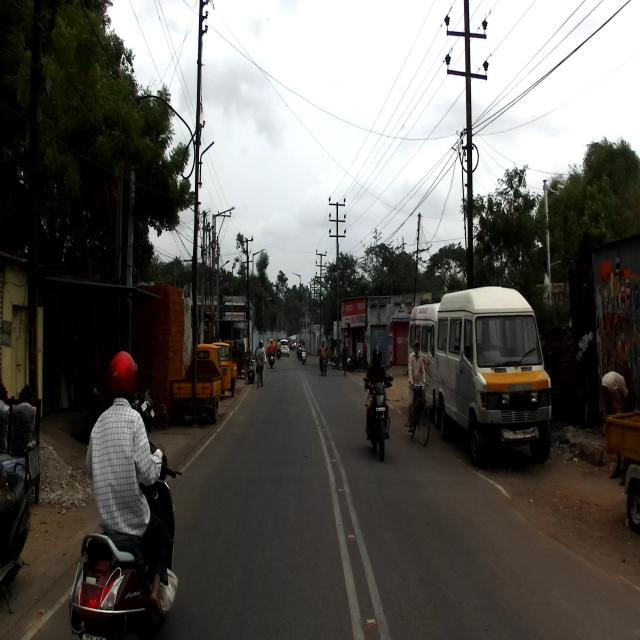Car_Maruti-Suzuki: (280, 338, 289, 355)
autorickshaw: (172, 344, 221, 424), (208, 341, 240, 392)
mini-bus: (434, 285, 552, 471)
motorcycle: (87, 369, 149, 439)
motorcycle_Hero: (363, 374, 394, 462)
scooter: (67, 439, 183, 637), (0, 456, 32, 615)
